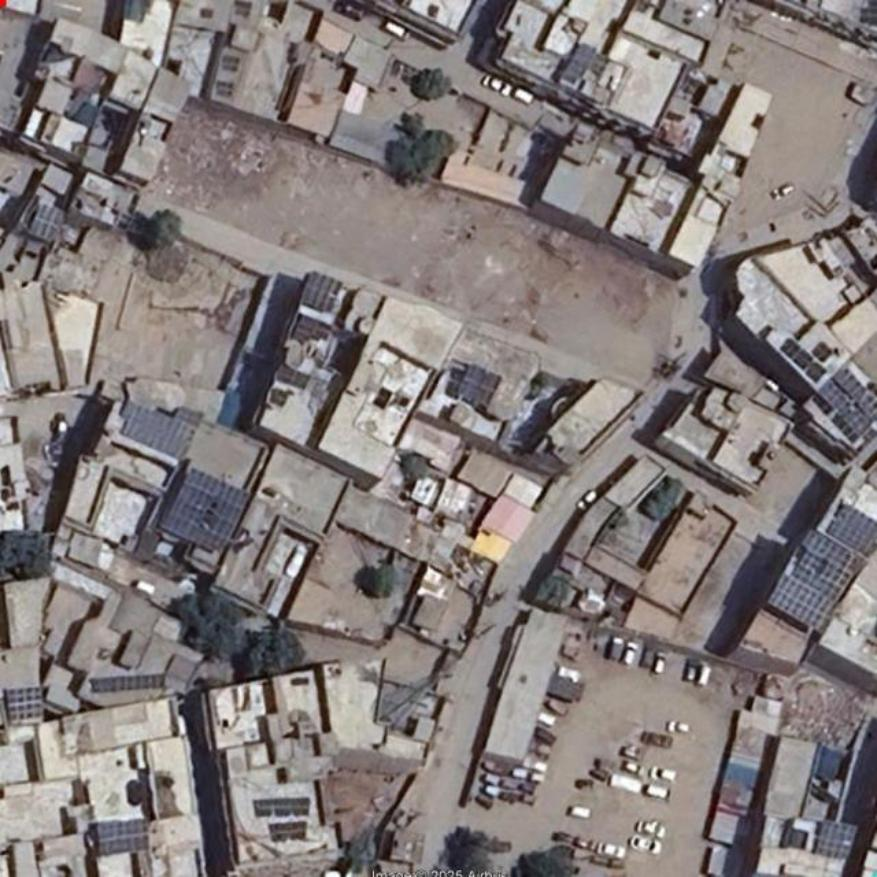Solarpanel: (769, 531, 864, 633), (164, 466, 254, 556), (817, 371, 876, 440), (120, 407, 197, 459), (827, 504, 876, 566), (780, 337, 826, 385), (97, 818, 150, 856), (460, 363, 501, 408), (298, 272, 343, 313), (816, 819, 859, 860), (29, 204, 66, 242), (91, 674, 166, 691), (5, 686, 41, 721), (256, 797, 311, 815), (271, 822, 305, 840), (813, 344, 833, 361)
